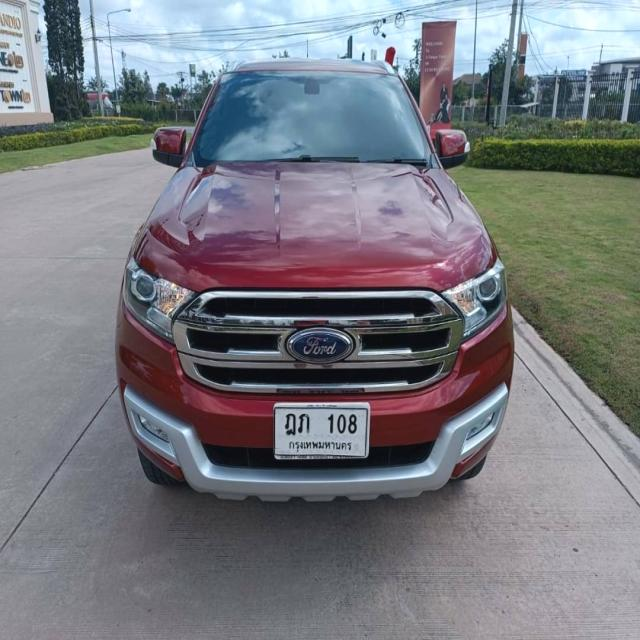license_plate: (273, 403, 372, 463)
